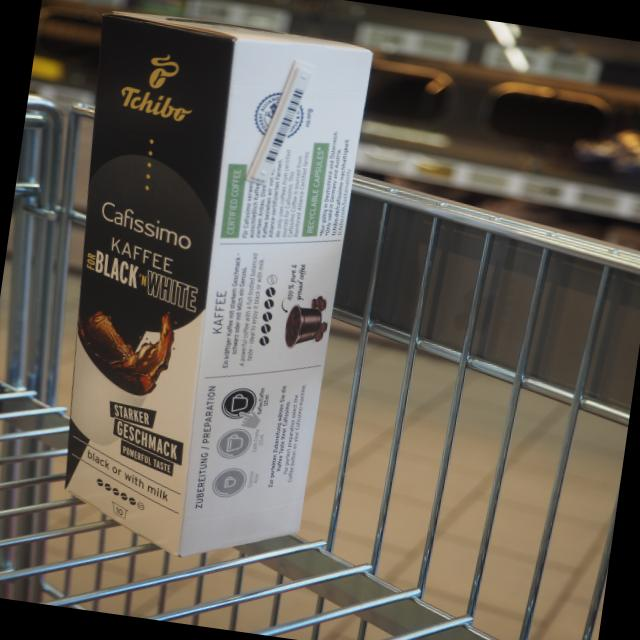Simo Kaffee BW: (54, 6, 380, 576)
